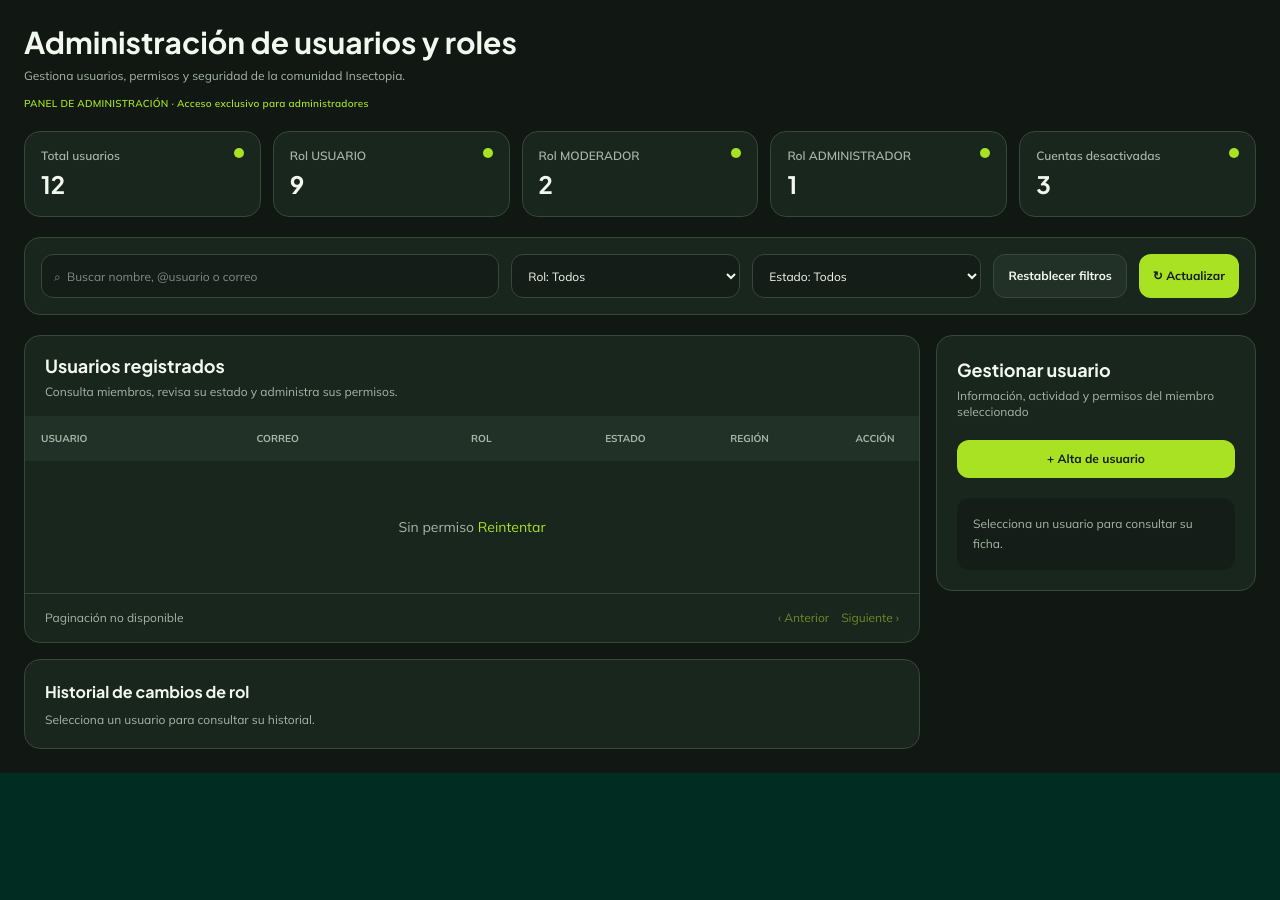
Administración 081 integrada › muestra errores de carga y reintenta sin datos ficticios
Expected: the message reads "Sin permiso", [398,518,474,536]
Expected: the text "ana@example.invalid" is not shown
Step 1. Click the button "Reintentar" → click(512, 527), box [478,517,546,537]
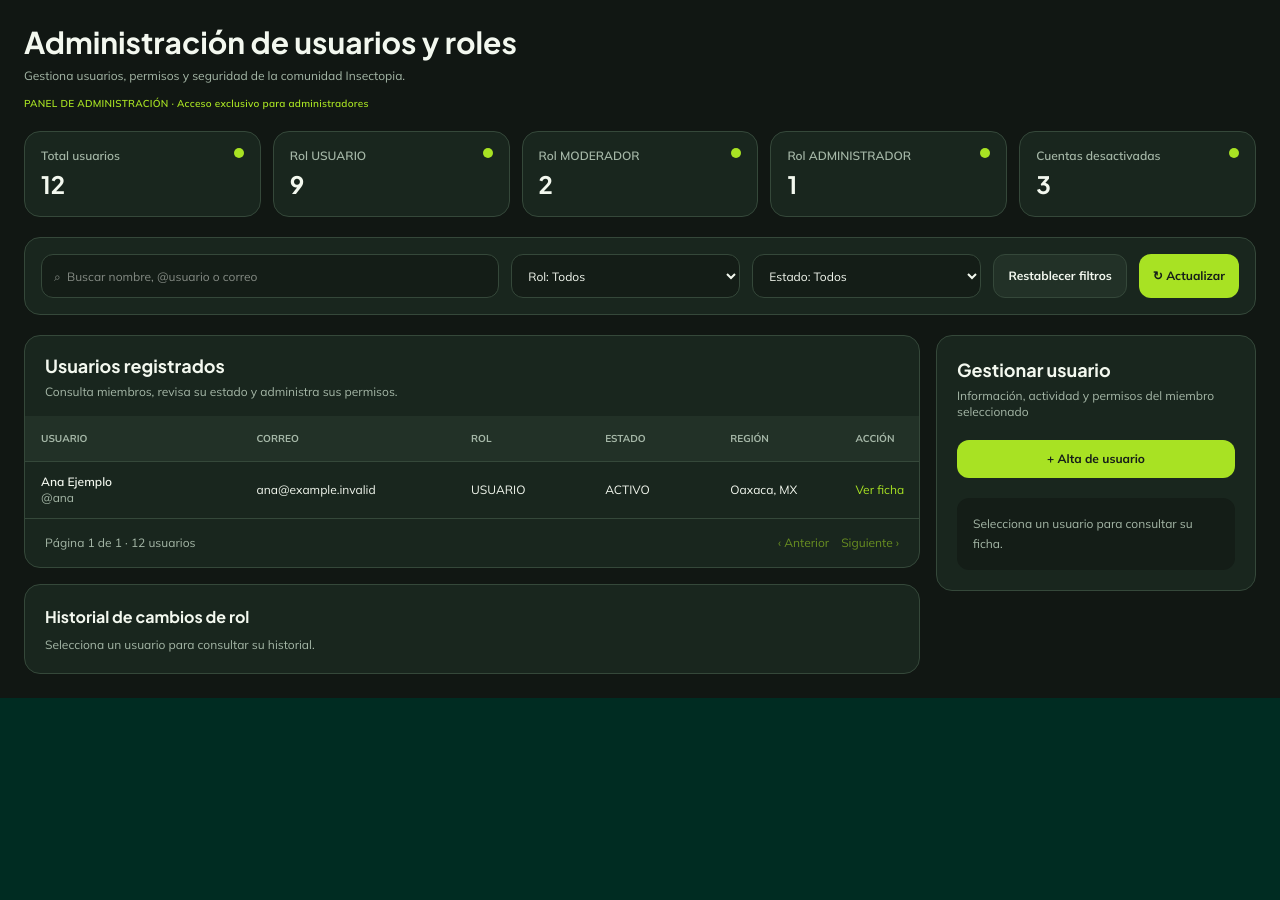
Result: the text "ana@example.invalid" is shown at [248,462,463,518]
